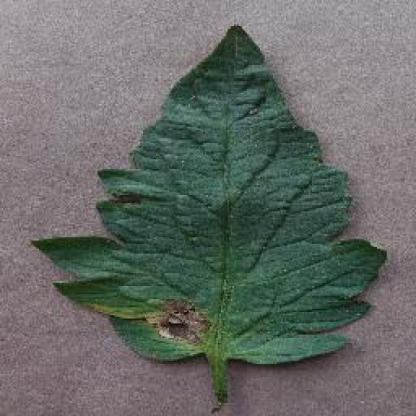Tomato_Blight: (34, 24, 385, 362)
